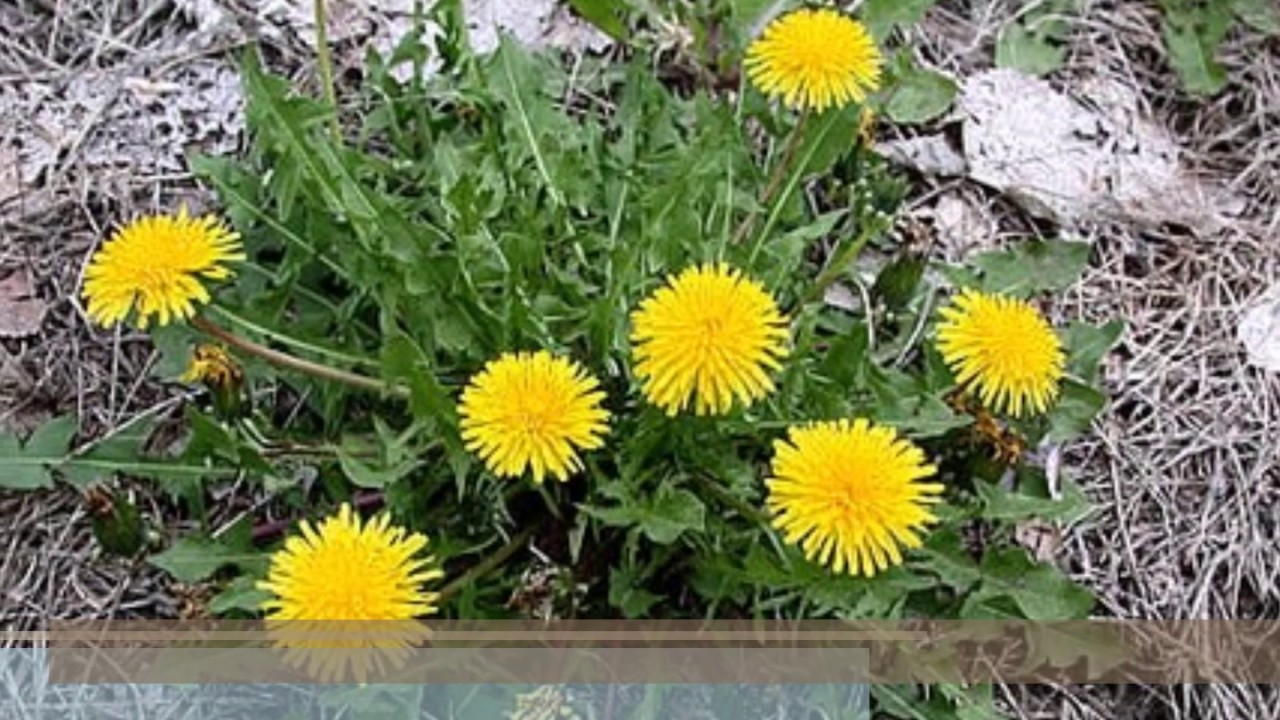begonvil: (443, 323, 620, 510), (758, 411, 948, 580), (623, 258, 800, 432), (253, 501, 440, 652), (71, 206, 256, 344), (928, 286, 1078, 438), (721, 8, 908, 128)
